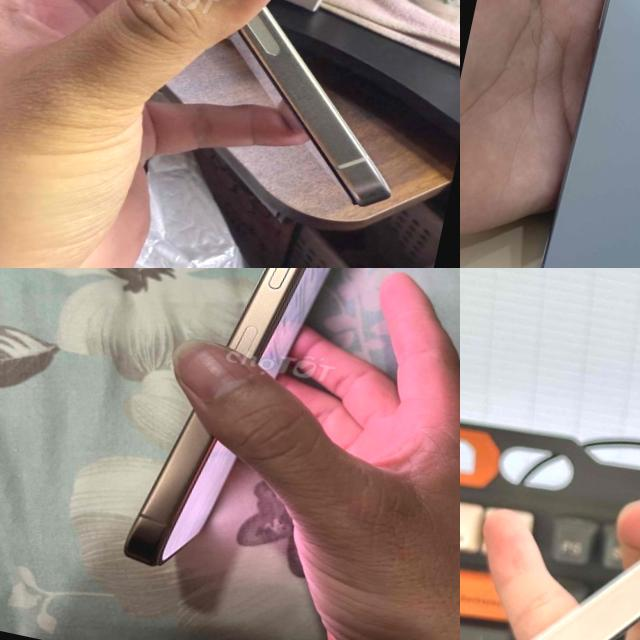gen_15: (0, 0, 460, 232), (460, 268, 640, 640), (479, 0, 640, 268)
gen_16: (114, 268, 393, 591)
